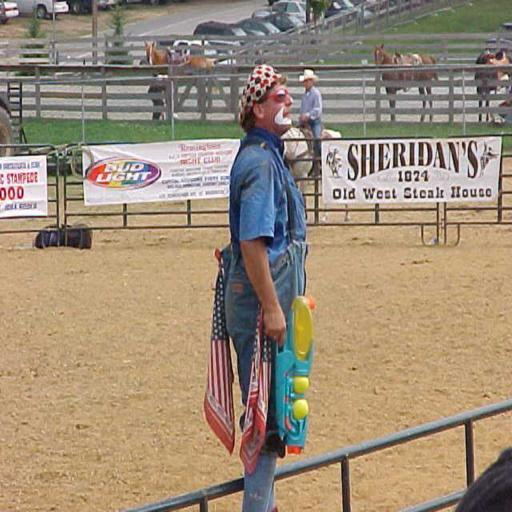horse: (140, 34, 220, 107), (373, 42, 440, 120), (278, 120, 342, 194), (475, 44, 511, 120)
